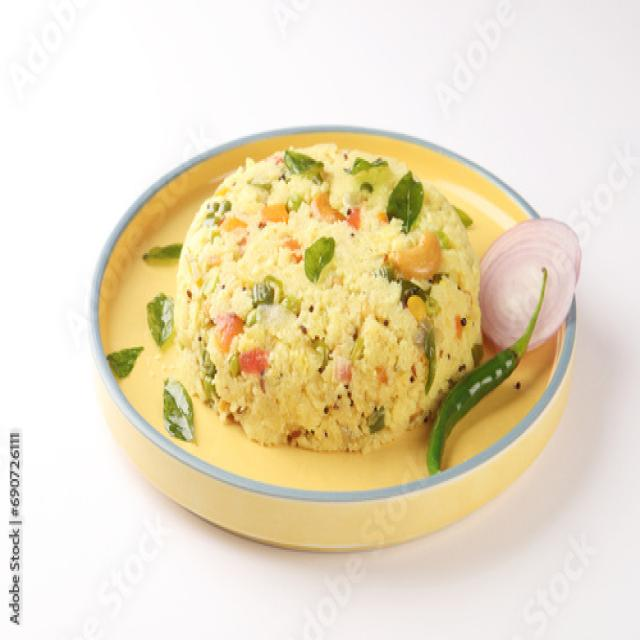UPMA: (175, 144, 477, 450)
